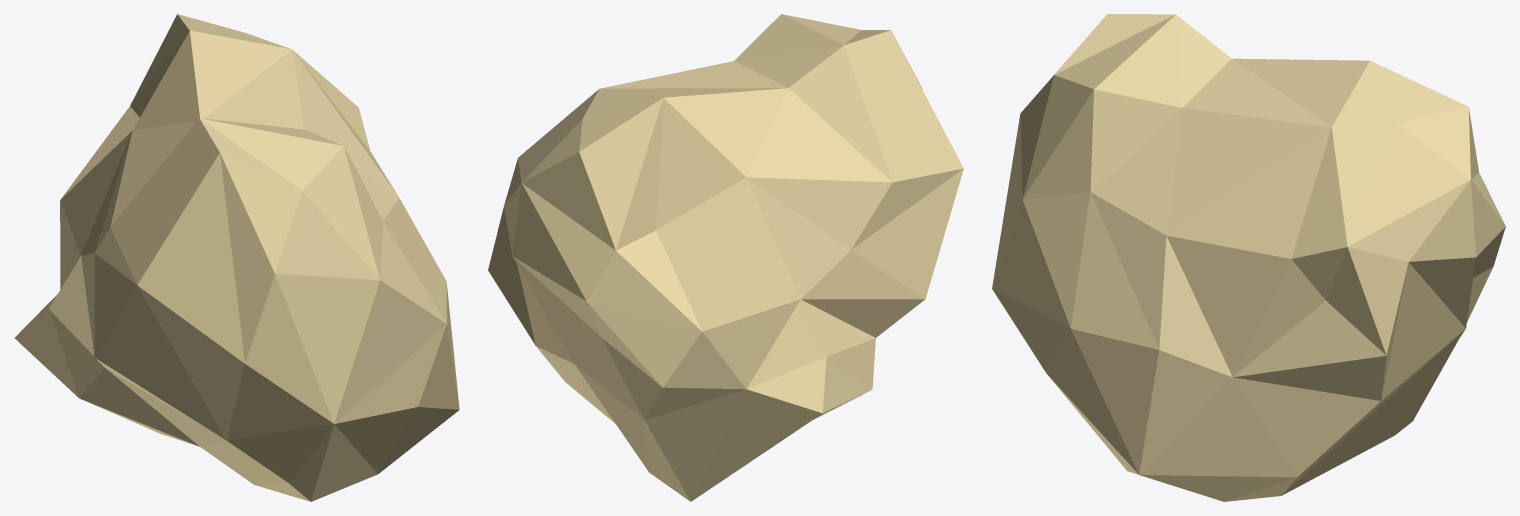
Rendered from Rock (92).fbx.
3 renders of one model, left to right at view 1: azimuth 30°, elevation 25°; view 2: azimuth 150°, elevation 25°; view 3: azimuth 270°, elevation 25°, orthographic.
Visible parts, largest first — view 1: Asteroid91; view 2: Asteroid91; view 3: Asteroid91.
Part boxes in pixels (x1,y1,x2,y2): Asteroid91: (14,14,459,501); Asteroid91: (488,14,963,501); Asteroid91: (992,14,1505,501).
Bounding box in the file's own units: 35.12 × 38.91 × 44.33.
